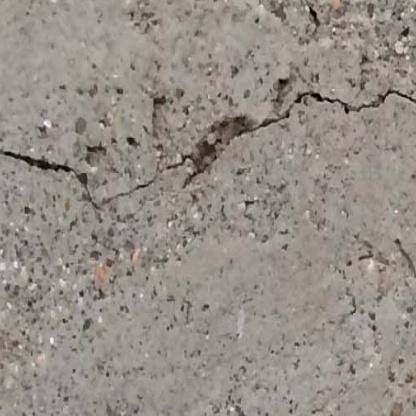Cracks: (167, 89, 416, 188), (0, 147, 101, 211), (106, 180, 157, 204)
